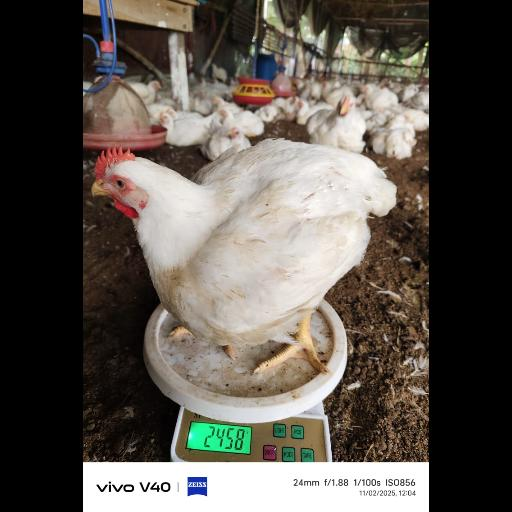chick: (89, 139, 403, 377)
